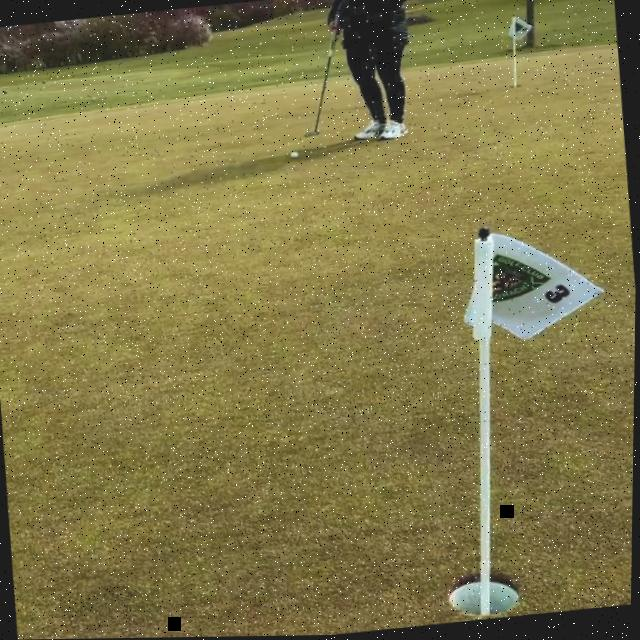ClubHead: (305, 131, 319, 138)
GolfBall: (291, 151, 300, 159)
